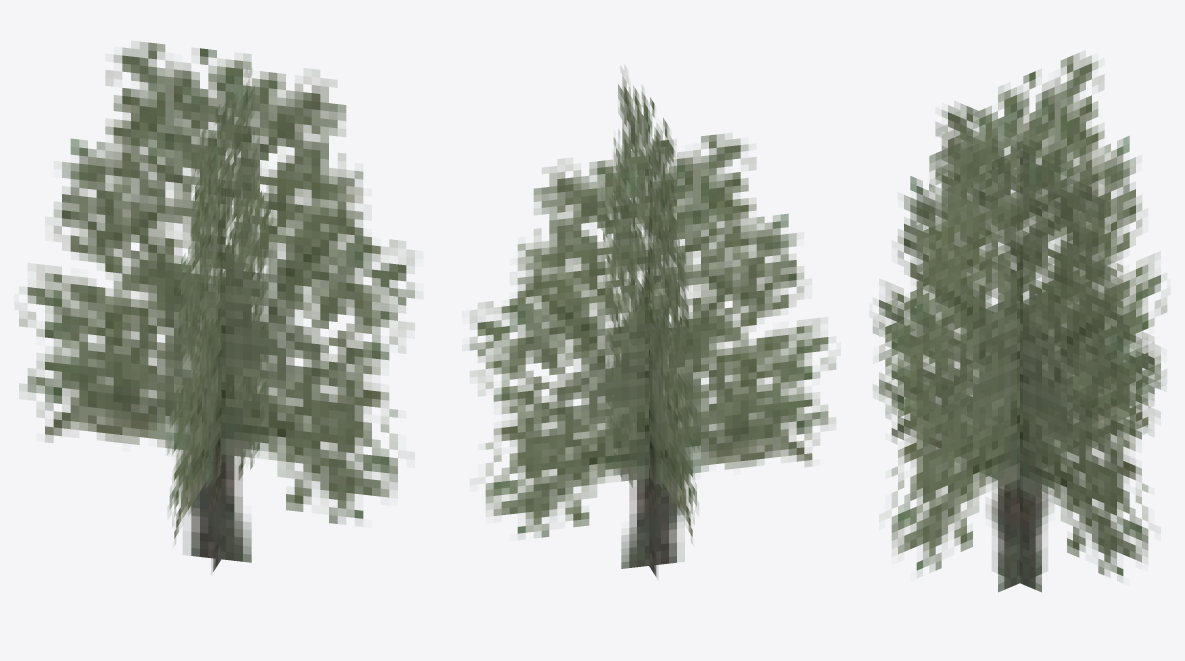
File: kenney-retro-fantasy-tree-large.glb
3 renders of one model, left to right at view 1: azimuth 30°, elevation 25°; view 2: azimuth 150°, elevation 25°; view 3: azimuth 270°, elevation 25°, orthographic. The views are drawn at different scales.
Parts seen in each view (by area): view 1: tree-large; view 2: tree-large; view 3: tree-large.
Part boxes in pixels (x1,y1,x2,y2): tree-large: [19, 41, 414, 574]; tree-large: [469, 66, 835, 578]; tree-large: [873, 51, 1166, 592].
Bounding box in the file's own units: 0.9192 × 1.7 × 0.9192.
1 material, 1 textured.
